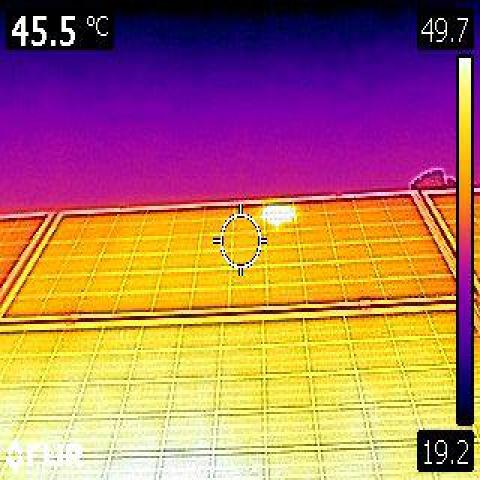fault: (3, 418, 220, 480), (266, 204, 292, 222)
